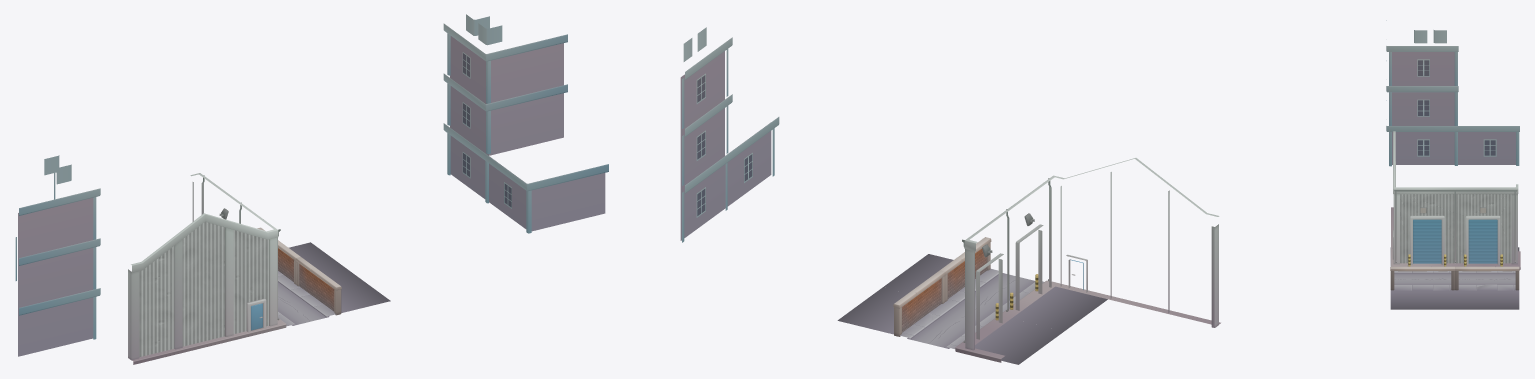
File: IndustrialWarehouseLeftRight3.prefab.glb
3 renders of one model, left to right at view 1: azimuth 30°, elevation 25°; view 2: azimuth 150°, elevation 25°; view 3: azimuth 270°, elevation 25°, orthographic. The views are drawn at different scales.
Parts seen in each view (by area): view 1: FarBackBuilding02, Warehouse01, IndustrialWarehouseLeftRight3, BrickWall, Road02, BrickWall (1); view 2: FarBackBuilding02, Warehouse01, Road02, IndustrialWarehouseLeftRight3, BrickWall (1), BrickWall; view 3: FarBackBuilding02, Warehouse01, IndustrialWarehouseLeftRight3, Road02, BrickWall, BrickWall (1).
Part boxes in pixels (box(x1,y1,x2,y2)): FarBackBuilding02: box(15, 14, 608, 356); Warehouse01: box(128, 173, 286, 364); IndustrialWarehouseLeftRight3: box(233, 271, 390, 339); BrickWall: box(295, 257, 341, 315); Road02: box(278, 242, 350, 290); BrickWall (1): box(257, 227, 300, 284); FarBackBuilding02: box(680, 27, 779, 242); Warehouse01: box(955, 158, 1220, 362); Road02: box(837, 287, 1063, 364); IndustrialWarehouseLeftRight3: box(883, 254, 1107, 331); BrickWall (1): box(893, 270, 945, 336); BrickWall: box(940, 237, 991, 301); FarBackBuilding02: box(1386, 20, 1519, 166); Warehouse01: box(1391, 131, 1520, 269); IndustrialWarehouseLeftRight3: box(1390, 247, 1454, 309); Road02: box(1455, 247, 1519, 309); BrickWall: box(1390, 266, 1454, 290); BrickWall (1): box(1455, 266, 1519, 290).
Size of the model in its own units: 76.34 by 26.28 by 18.74.
Materials: 3 (2 with a texture image).
